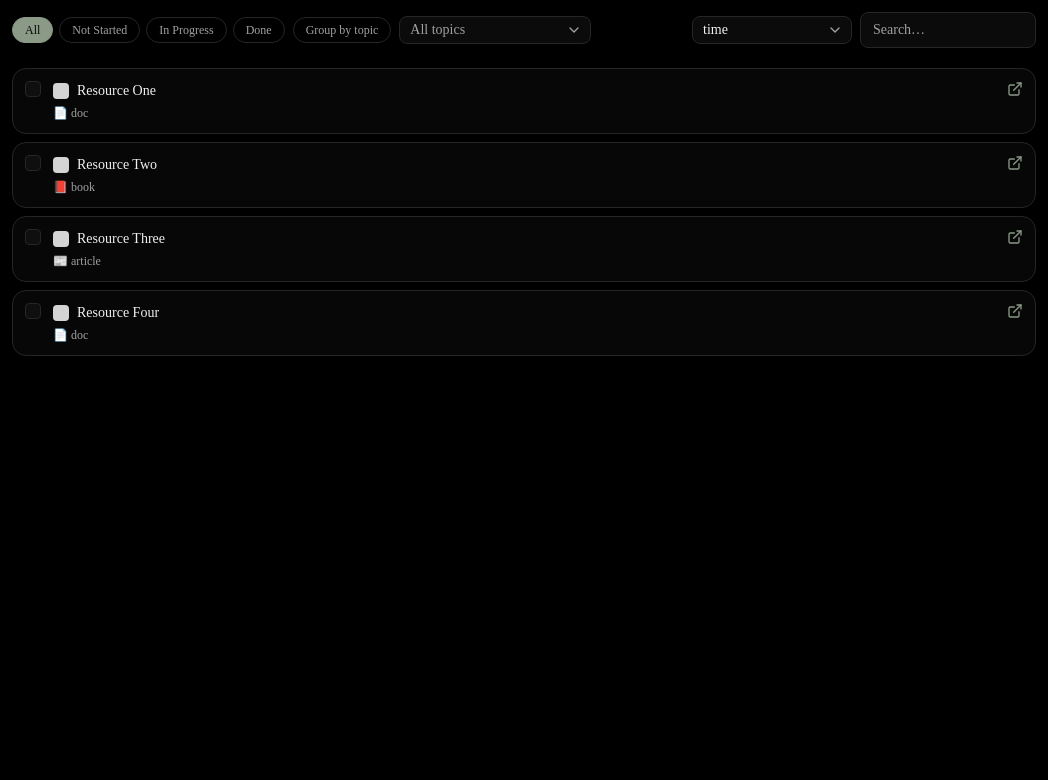
Test case: TrackBrowser resources by topic › groups resources under their topic headings when Group by topic is pressed
This screenshot has width=1048, height=780.
Expected: the text "§1 Architecture" is not shown
Click the button "Group by topic" at (342, 30), box [293, 17, 391, 43]
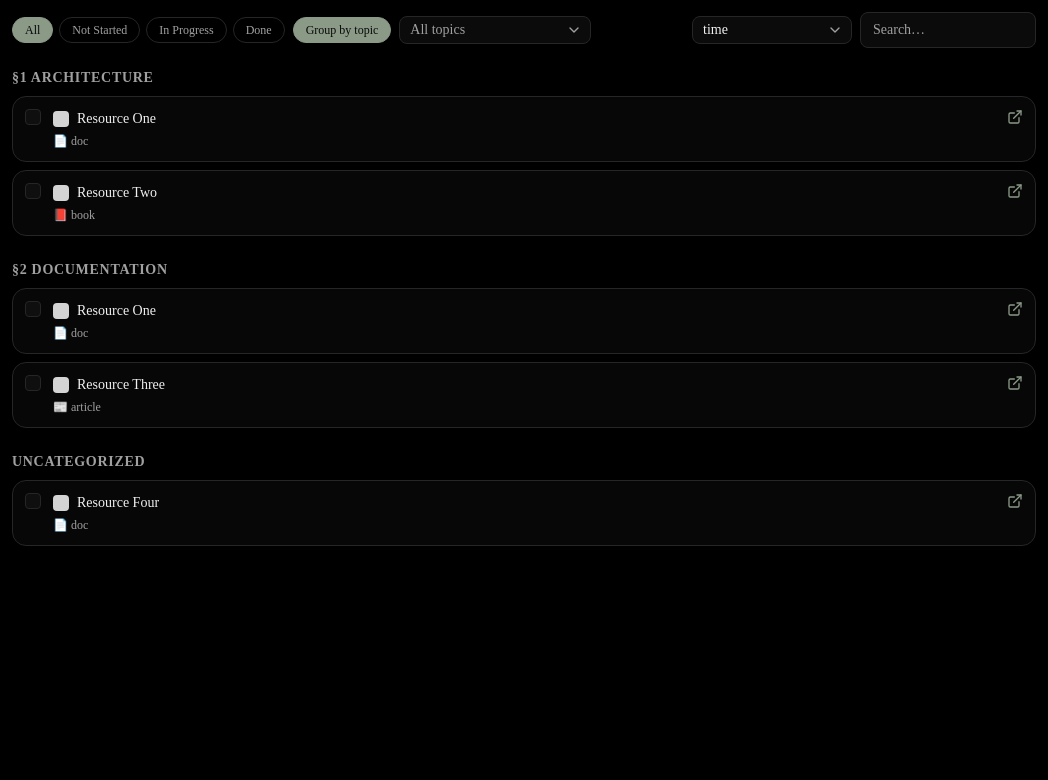
Now the link "§1 Architecture" is shown, box [12, 70, 154, 85]
Now the link "§2 Documentation" is shown, box [12, 262, 168, 277]
Now the heading "Uncategorized" is shown, box [12, 454, 145, 469]
